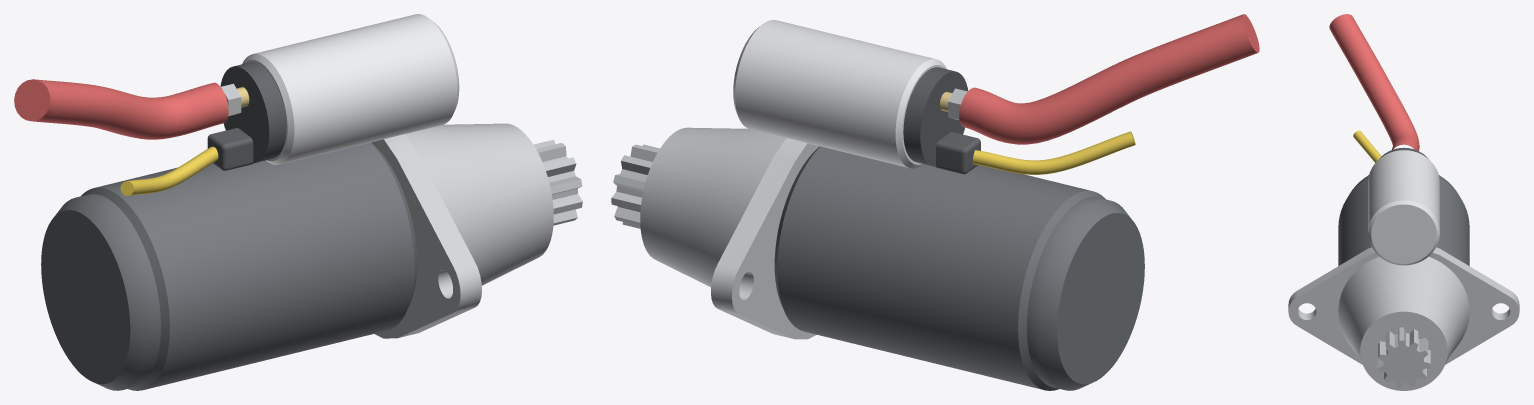
Rendered from starter_motor.glb.
3 renders of one model, left to right at view 1: azimuth 30°, elevation 25°; view 2: azimuth 150°, elevation 25°; view 3: azimuth 270°, elevation 25°, orthographic. The views are drawn at different scales.
Parts seen in each view (by area): view 1: motor, nose_housing, solenoid, main_terminal, s_terminal, pinion; view 2: motor, nose_housing, solenoid, main_terminal, s_terminal, pinion; view 3: nose_housing, solenoid, motor, main_terminal, pinion, s_terminal.
Part boxes in pixels (<box>): motor: <box>41,142,417,390</box>; nose_housing: <box>371,123,553,338</box>; solenoid: <box>220,14,459,164</box>; main_terminal: <box>14,79,249,139</box>; s_terminal: <box>120,128,253,195</box>; pinion: <box>534,140,582,225</box>; motor: <box>774,146,1144,390</box>; nose_housing: <box>640,127,819,339</box>; solenoid: <box>733,20,968,168</box>; main_terminal: <box>940,14,1259,144</box>; s_terminal: <box>935,131,1135,174</box>; pinion: <box>611,144,659,228</box>; nose_housing: <box>1288,247,1519,390</box>; solenoid: <box>1368,147,1439,265</box>; motor: <box>1338,175,1469,265</box>; main_terminal: <box>1329,14,1419,150</box>; pinion: <box>1377,327,1430,388</box>; s_terminal: <box>1353,130,1381,162</box>.
Size of the model in its own units: 275 by 169 by 148.
